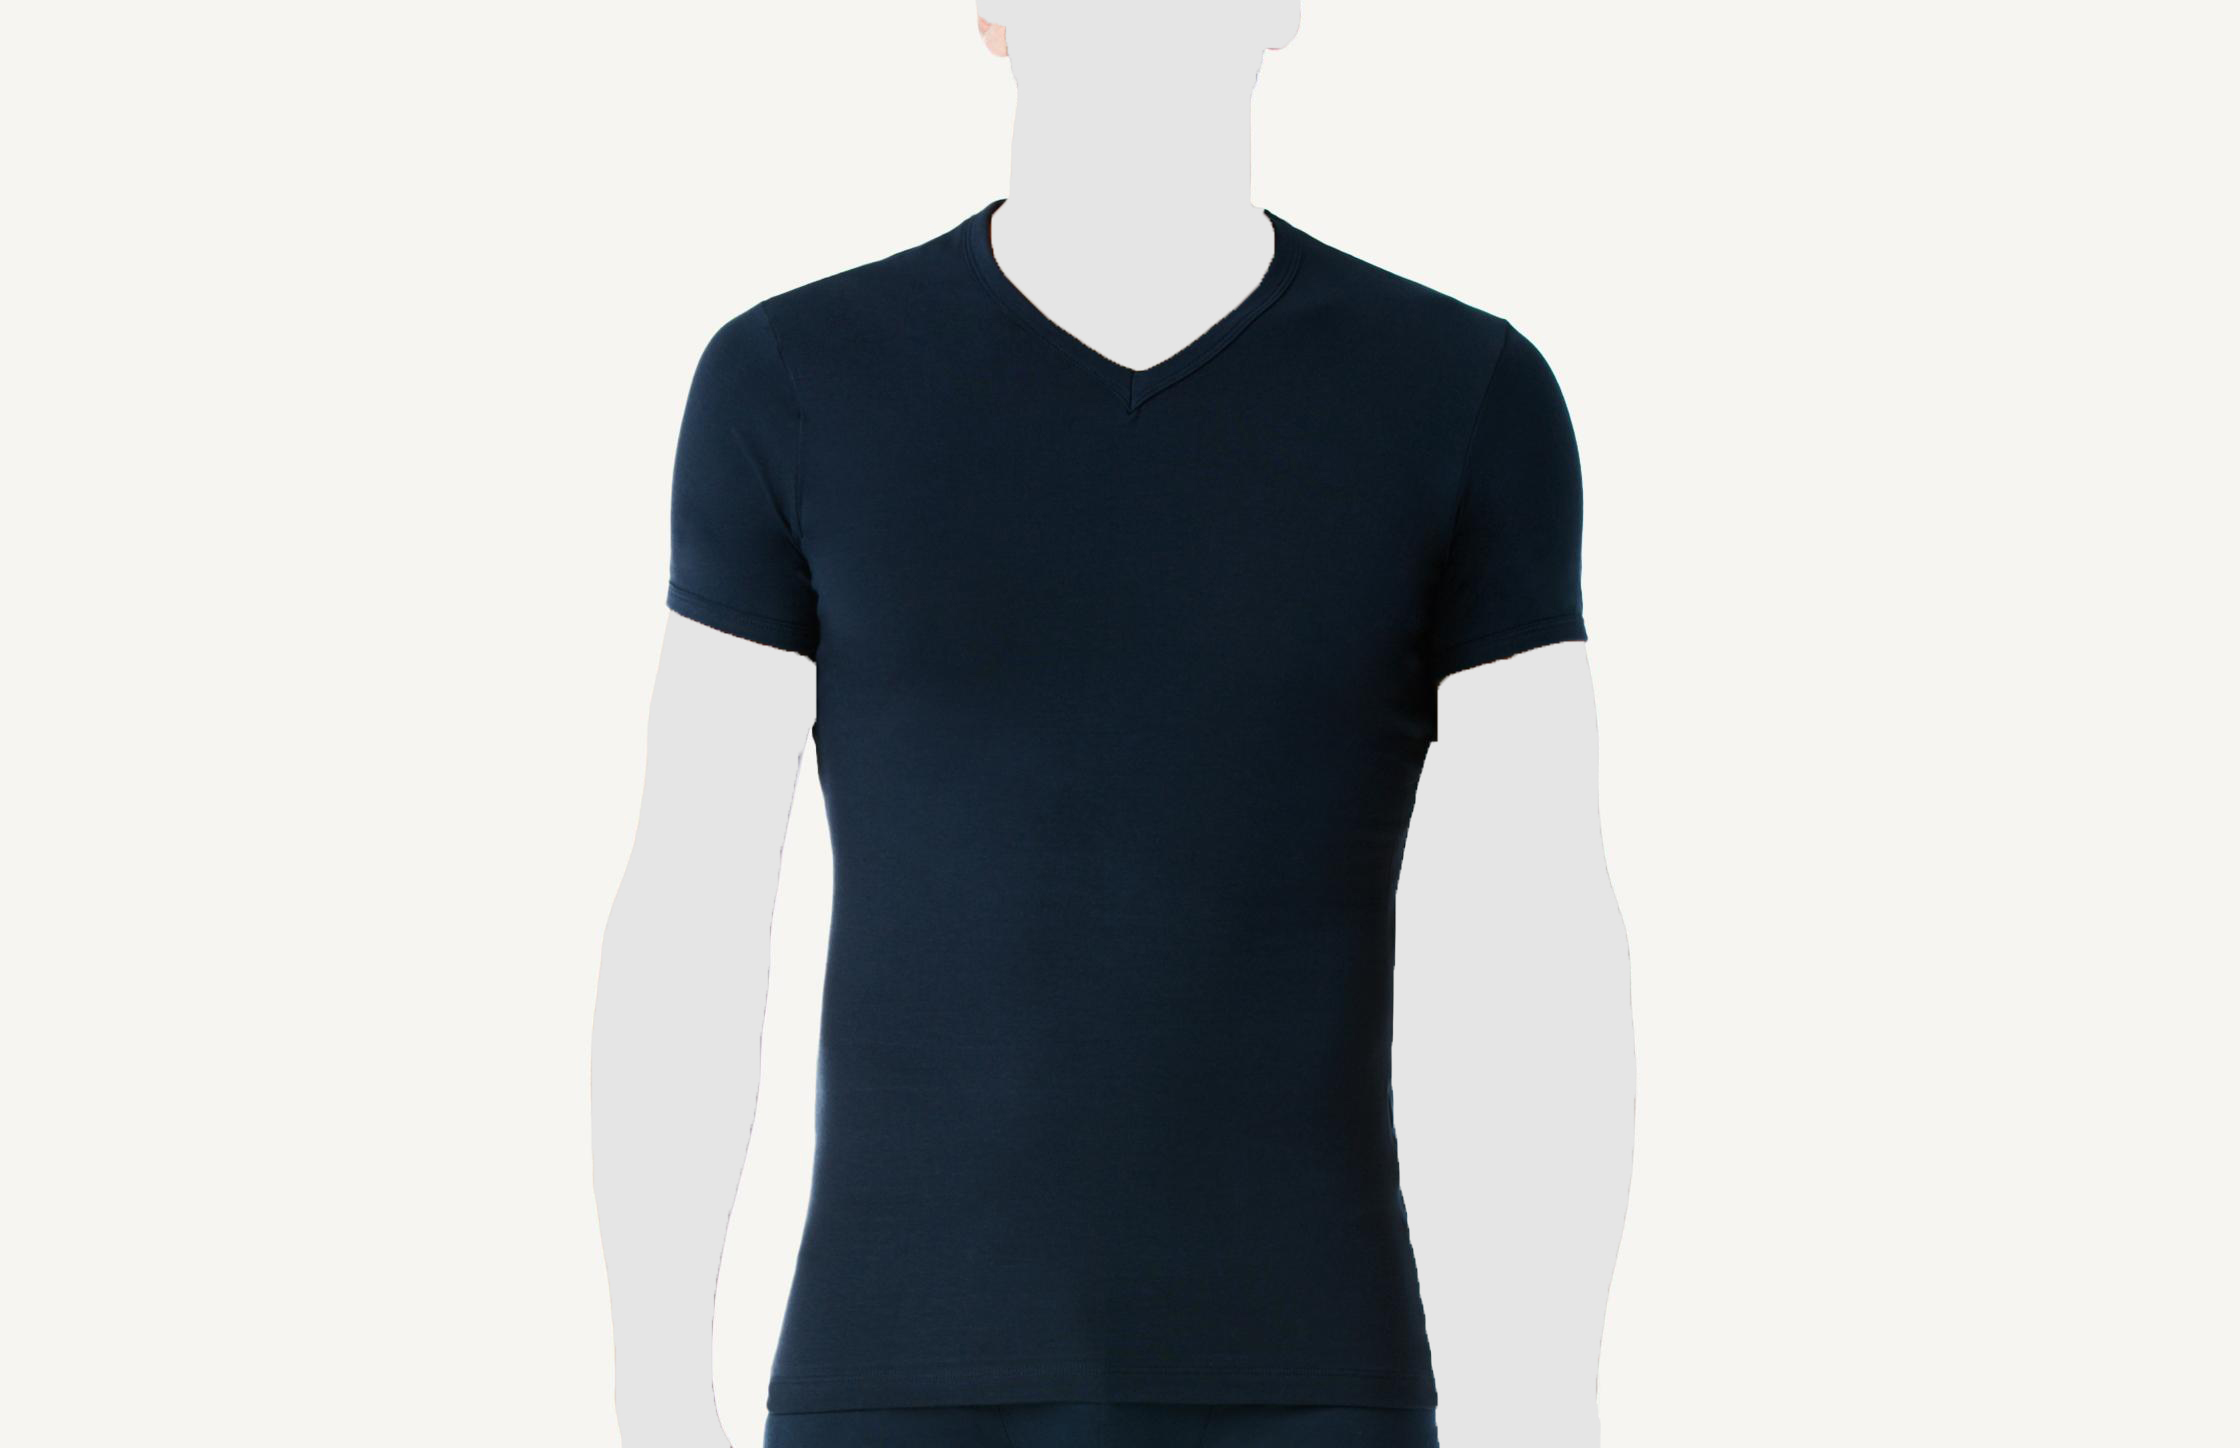teeshirt: (660, 188, 1598, 1448)
